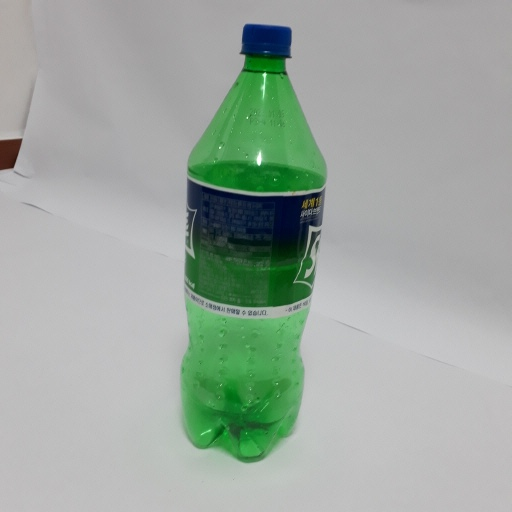Plastic_0: (175, 17, 330, 469)
